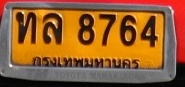txt18: (14, 11, 38, 45)
txt31: (41, 12, 63, 45)
